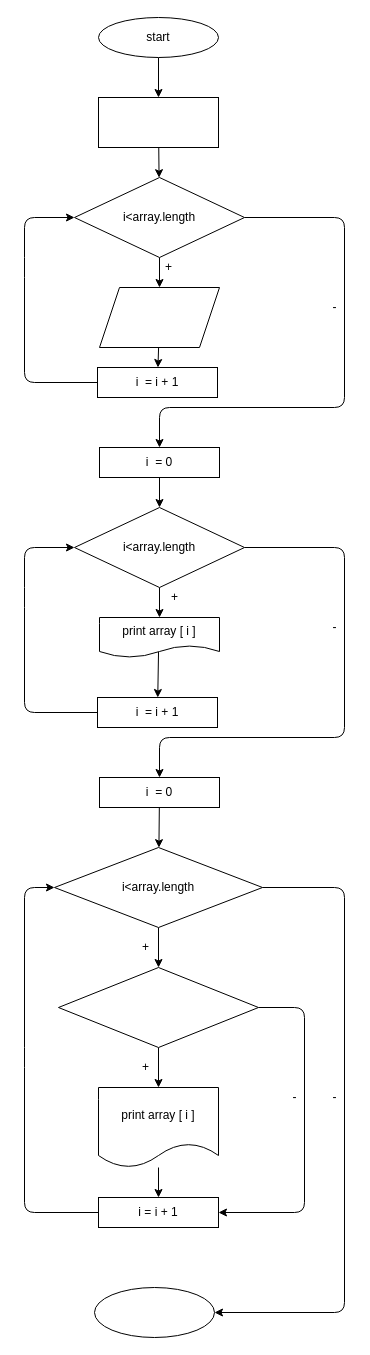
The diagram is 370 pixels wide and 1355 high, and some of its shapes have lost their labels. Each missing label, with the box of its shape:
array.length <= 3: (58, 966, 258, 1048)
end: (94, 1286, 214, 1338)
i = 0 array[4]: (98, 96, 218, 148)
input array [ i ]: (98, 286, 220, 348)
